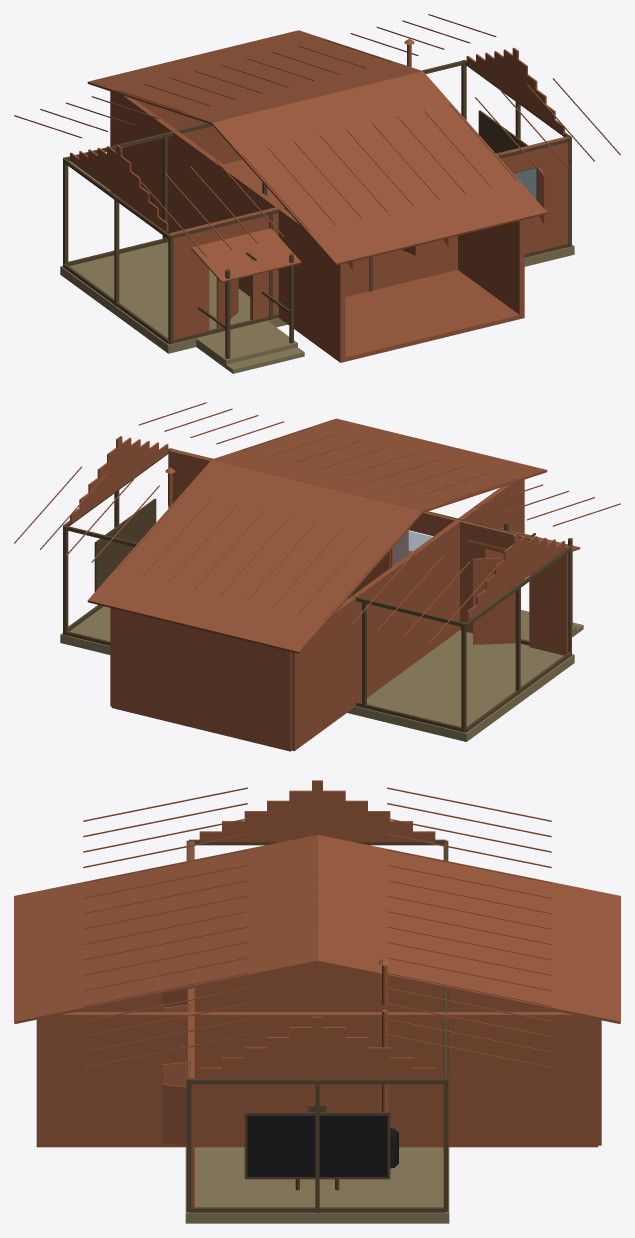
The model's file is modest-vietnamese-rural-schoolhouse.glb.
3 views of the same model, one above another, from view 1: azimuth 30°, elevation 25°; view 2: azimuth 150°, elevation 25°; view 3: azimuth 270°, elevation 25° (orthographic). The views are drawn at different scales.
Parts seen in each view (by area): view 1: Mesh_RoofA, Mesh_SchoolhouseRoom_WallRight, Mesh_RoofB, Mesh_SchoolhouseRoom_Floor, Mesh_Foundation, Mesh_SchoolhouseRoom_WallLeft, Mesh_FrontWallSeg4_R, Mesh_PorchRoofMesh, Mesh_FrontWallSeg1_L, Mesh_PorchPlatform, Mesh_SchoolhouseRoom_WallBack, Mesh_FrontWallSeg2_Sill (+26 smaller); view 2: Mesh_RoofB, Mesh_SchoolhouseRoom_WallRight, Mesh_SchoolhouseRoom_WallBack, Mesh_RoofA, Mesh_Foundation, Mesh_FrontWallSeg4_R, Mesh_DoorLeaf, Mesh_BlackboardFrame, Mesh_FrontWallSeg1_L, Mesh_FrontWallSeg3_R, Mesh_FrontWallSeg4_L, Mesh_BackBeamTop (+15 smaller); view 3: Mesh_SchoolhouseRoom_WallLeft, Mesh_RoofA, Mesh_RoofB, Mesh_Foundation, Mesh_SchoolhouseRoom_WallRight, Mesh_BlackboardSurface, Mesh_GablePlank_-1_0, Mesh_GablePlank_1_0, Mesh_GablePlank_-1_1, Mesh_GablePlank_1_1, Mesh_GablePlank_-1_2, Mesh_LeftBeamTop (+13 smaller).
Part boxes in pixels (left/top/right/bottom): Mesh_RoofA: left=212, top=71, right=547, bottom=265; Mesh_SchoolhouseRoom_WallRight: left=110, top=91, right=345, bottom=362; Mesh_RoofB: left=87, top=30, right=422, bottom=124; Mesh_SchoolhouseRoom_Floor: left=224, top=159, right=521, bottom=361; Mesh_Foundation: left=60, top=242, right=574, bottom=353; Mesh_SchoolhouseRoom_WallLeft: left=458, top=219, right=524, bottom=318; Mesh_FrontWallSeg4_R: left=168, top=224, right=209, bottom=339; Mesh_PorchRoofMesh: left=191, top=228, right=301, bottom=282; Mesh_FrontWallSeg1_L: left=537, top=136, right=568, bottom=250; Mesh_PorchPlatform: left=196, top=321, right=297, bottom=368; Mesh_SchoolhouseRoom_WallBack: left=135, top=99, right=242, bottom=164; Mesh_FrontWallSeg2_Sill: left=399, top=240, right=444, bottom=283; Mesh_RoofB: left=87, top=459, right=422, bottom=653; Mesh_SchoolhouseRoom_WallRight: left=292, top=479, right=524, bottom=751; Mesh_SchoolhouseRoom_WallBack: left=111, top=608, right=291, bottom=751; Mesh_RoofA: left=212, top=418, right=547, bottom=512; Mesh_Foundation: left=60, top=606, right=574, bottom=741; Mesh_FrontWallSeg4_R: left=529, top=537, right=568, bottom=655; Mesh_DoorLeaf: left=473, top=557, right=520, bottom=644; Mesh_BlackboardFrame: left=94, top=498, right=156, bottom=591; Mesh_FrontWallSeg1_L: left=168, top=449, right=200, bottom=507; Mesh_FrontWallSeg3_R: left=433, top=514, right=469, bottom=631; Mesh_FrontWallSeg4_L: left=467, top=522, right=487, bottom=633; Mesh_BackBeamTop: left=66, top=526, right=465, bottom=626; Mesh_SchoolhouseRoom_WallLeft: left=36, top=1012, right=598, bottom=1147; Mesh_RoofA: left=14, top=835, right=317, bottom=1023; Mesh_RoofB: left=317, top=835, right=620, bottom=1023; Mesh_Foundation: left=185, top=1147, right=449, bottom=1223; Mesh_SchoolhouseRoom_WallRight: left=76, top=963, right=558, bottom=1011; Mesh_BlackboardSurface: left=247, top=1115, right=387, bottom=1176; Mesh_GablePlank_-1_0: left=199, top=1067, right=435, bottom=1078; Mesh_GablePlank_1_0: left=199, top=831, right=435, bottom=842; Mesh_GablePlank_-1_1: left=222, top=1057, right=412, bottom=1068; Mesh_GablePlank_1_1: left=222, top=821, right=412, bottom=832; Mesh_GablePlank_-1_2: left=244, top=1047, right=390, bottom=1058; Mesh_LeftBeamTop: left=189, top=1079, right=445, bottom=1084.
Bounding box in the file's own units: 10.42 × 4.24 × 10.81.
2 materials, 2 textured.
